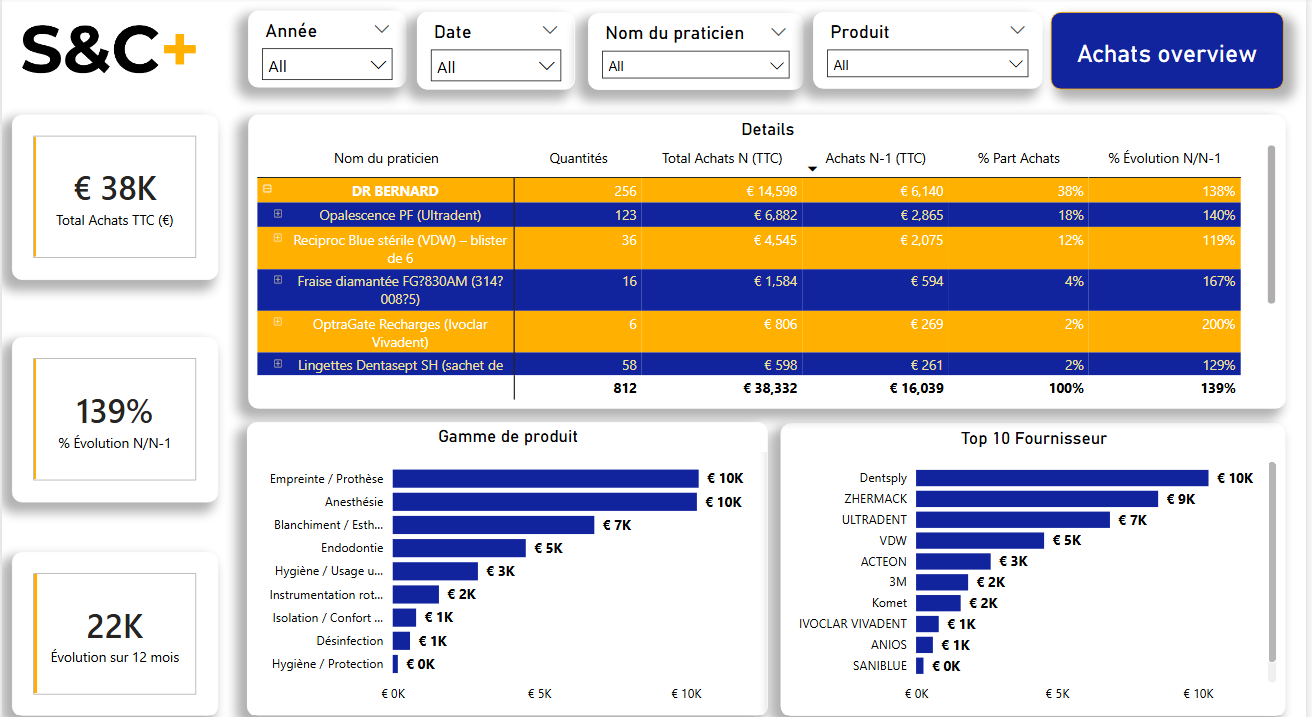

The dashboard page shown, as its layout file describes it:
{"tool":"powerbi","page":{"name":"Achats","canvas":[1280,720],"ordinal":0},"visuals":[{"type":"slicer","fields":{"Values":["Dim Date.Year"]},"box":[241.1,13.3,155.6,75.6],"z":0},{"type":"slicer","fields":{"Values":["S&C- Achats.Nom du dr facturation"]},"box":[575,16.2,211.2,75],"z":1000},{"type":"clusteredBarChart","title":"Top 10 Fournisseur","fields":{"Category":["S&C- Achats.Fournisseur"],"Y":["Sum(S&C- Achats.Total TTC (€))"]},"box":[764,418.2,495.6,287.8],"z":2000},{"type":"pivotTable","title":"Details","fields":{"Rows":["S&C- Achats.Nom du dr facturation","S&C- Achats.Produit","S&C- Achats.Catégorie","S&C- Achats.Fournisseur"],"Values":["Sum(S&C- Achats.Quantité (boîtes))","Sum(S&C- Achats.Total TTC (€))","S&C Measure.A_Achats N-1","S&C Measure.A_% Part Achats","S&C Measure.A_YoY %"]},"box":[241.3,114.9,1018.3,289.1],"z":3000},{"type":"slicer","fields":{"Values":["Dim Date.Date.Variation.Date Hierarchy.Month"]},"box":[407.5,15,155,76.2],"z":4000},{"type":"cardVisual","fields":{"Data":["Sum(S&C- Achats.Total TTC (€))"]},"box":[10,115,202.5,162.5],"z":5000},{"type":"cardVisual","fields":{"Data":["S&C Measure.YoY %"]},"box":[10,333.8,202.5,162.5],"z":6000},{"type":"cardVisual","fields":{"Data":["S&C Measure.Évolution sur 12 mois"]},"box":[10,545,202.5,161.2],"z":7000},{"type":"image","box":[0,2.6,212.3,98.4],"z":8000},{"type":"slicer","fields":{"Values":["S&C- Achats.Produit"]},"box":[796.2,15,225,75],"z":9000},{"type":"clusteredBarChart","title":"Gamme de produit","fields":{"Y":["Sum(S&C- Achats.Total TTC (€))"],"Category":["S&C- Achats.Catégorie"]},"box":[240,416.9,511.1,289.1],"z":10000},{"type":"textbox","box":[1030,15,228.8,76.2],"z":11000}]}

Visuals, with their boxes in screenshot pixels (x1, y1, x2, y2), scaled from the page's 1280x720 canvas onto the 1312x717 screenshot:
slicer - Dim Date.Year: 247:13:407:89
slicer - S&C- Achats.Nom du dr facturation: 589:16:806:91
"Top 10 Fournisseur" clusteredBarChart: 783:416:1291:703
"Details" pivotTable: 247:114:1291:402
slicer - Dim Date.Date.Variation.Date Hierarchy.Month: 418:15:577:91
cardVisual - Sum(S&C- Achats.Total TTC (€)): 10:115:218:276
cardVisual - S&C Measure.YoY %: 10:332:218:494
cardVisual - S&C Measure.Évolution sur 12 mois: 10:543:218:703
image: 0:3:218:101
slicer - S&C- Achats.Produit: 816:15:1047:90
"Gamme de produit" clusteredBarChart: 246:415:770:703
textbox: 1056:15:1290:91
